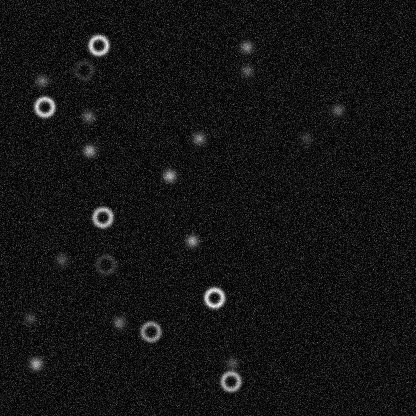Ring: (71, 58, 95, 82), (93, 252, 117, 276), (90, 205, 114, 229), (86, 33, 110, 57), (32, 94, 56, 118), (202, 285, 226, 309), (218, 369, 242, 393), (138, 319, 162, 343)
Spot: (298, 130, 314, 146), (183, 232, 199, 248), (238, 38, 254, 54), (27, 355, 43, 371), (329, 102, 345, 118), (33, 72, 49, 88), (80, 108, 96, 124), (53, 251, 69, 267), (190, 130, 206, 146), (21, 310, 37, 326), (81, 142, 97, 158), (110, 314, 126, 330), (223, 355, 239, 371), (161, 167, 177, 183), (238, 62, 254, 78)
